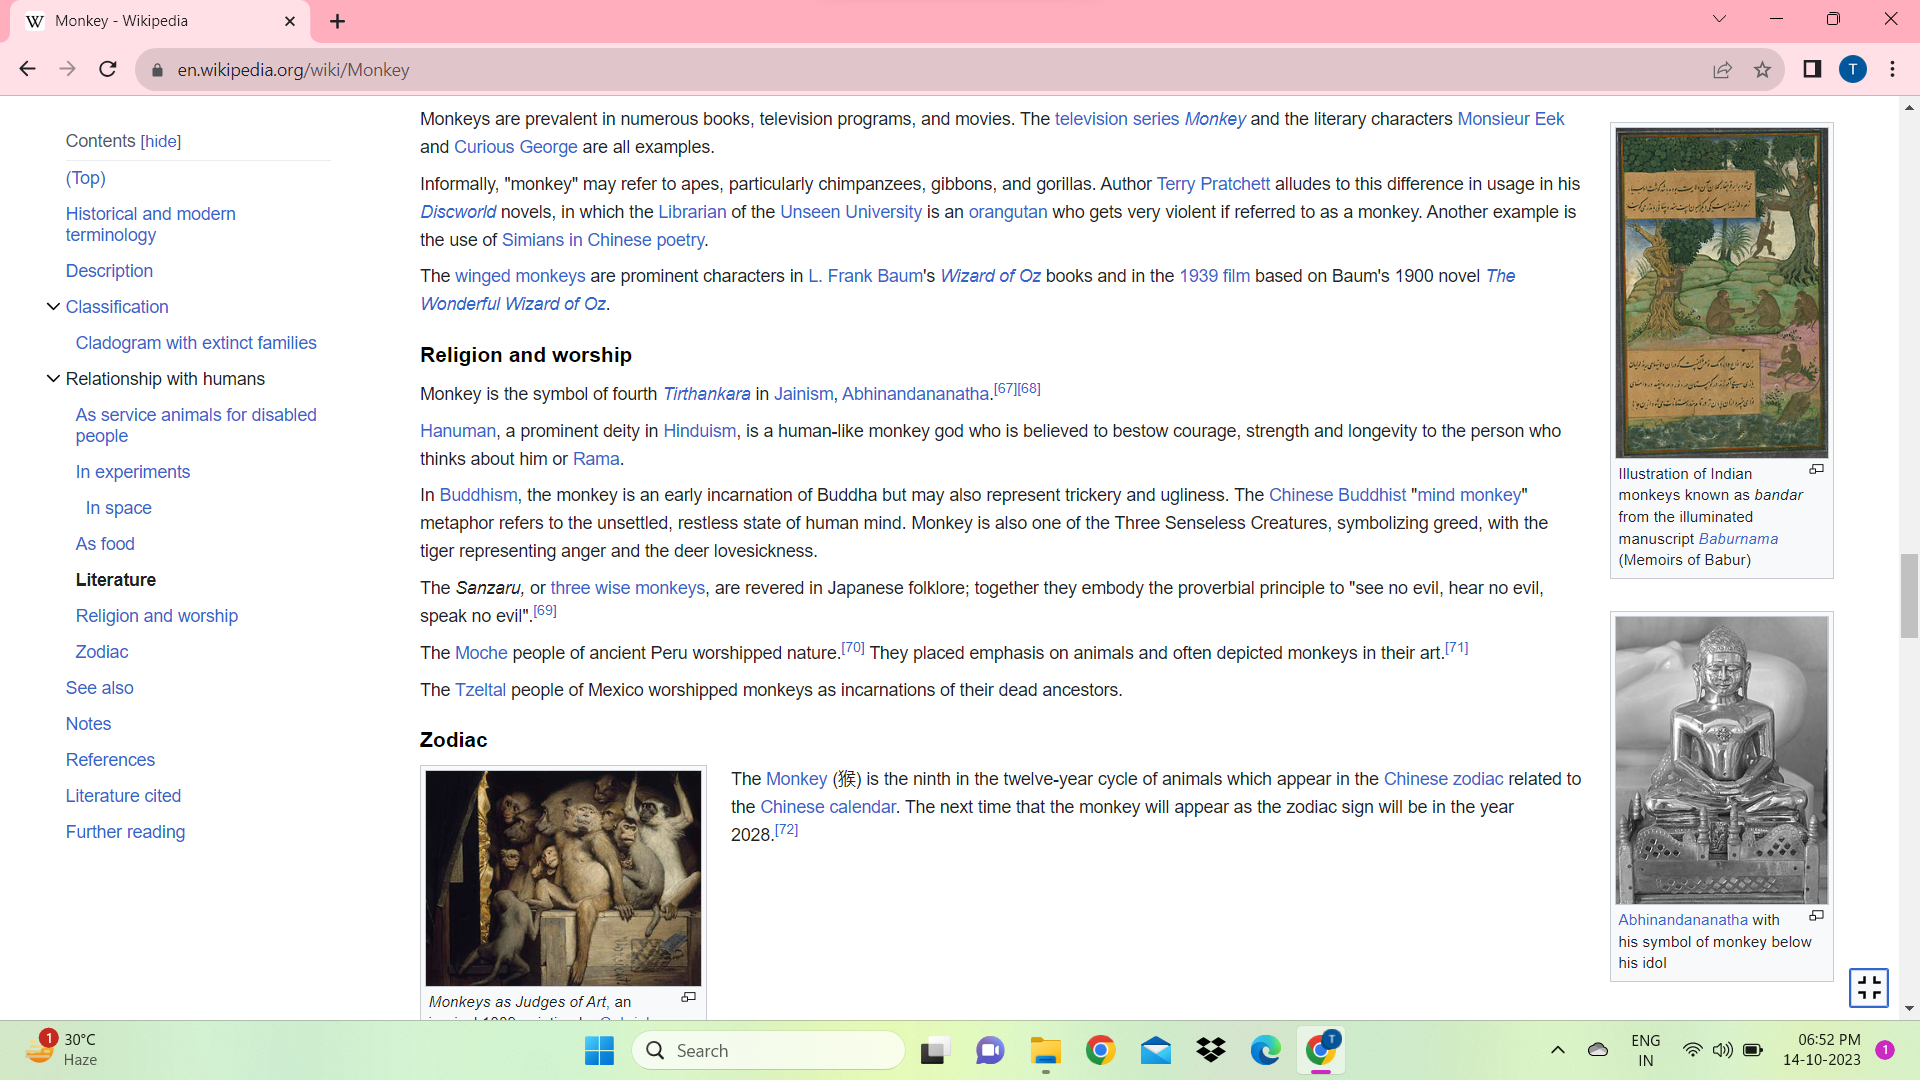Image: (1609, 116, 1832, 464), (1611, 600, 1836, 915), (418, 767, 705, 997)
Paragraph: (404, 382, 1588, 705), (407, 99, 1590, 316), (719, 756, 1598, 882), (67, 410, 322, 447), (61, 200, 248, 245), (410, 332, 644, 367), (62, 360, 276, 390), (54, 123, 193, 153), (61, 749, 173, 779), (407, 727, 513, 756), (71, 529, 157, 563), (50, 632, 149, 661), (51, 673, 157, 695), (51, 295, 186, 313)
